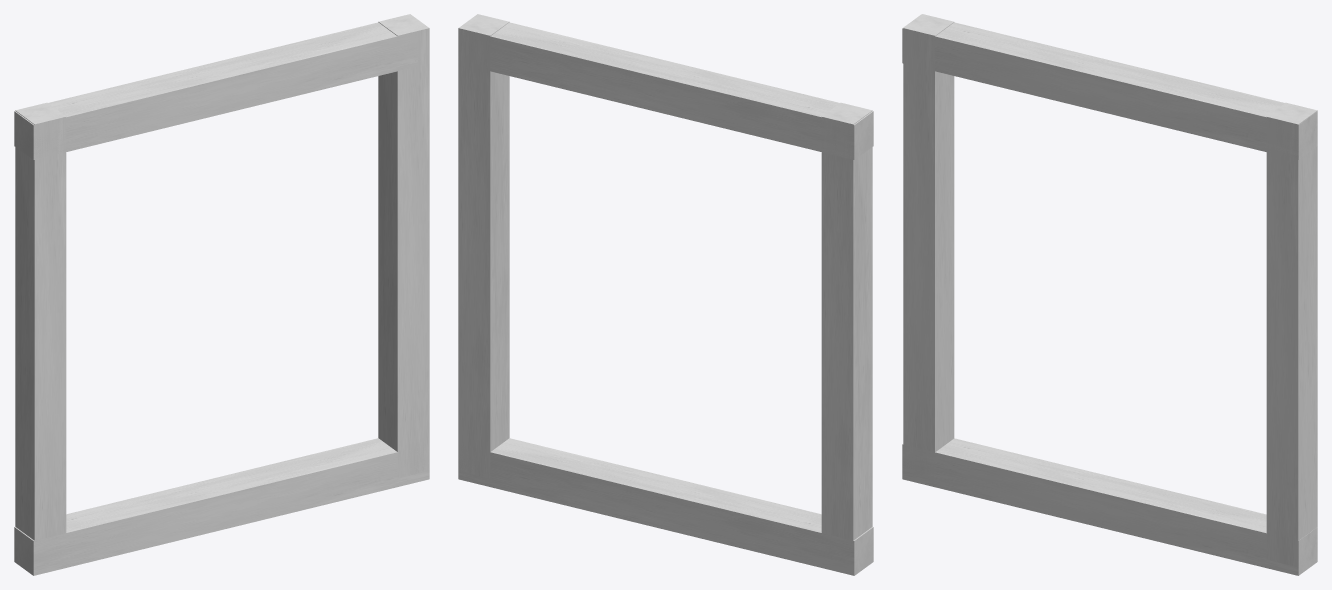
Rendered from VentanaEstructuraMovil.obj.
3 views of the same model, side by side, from view 1: azimuth 30°, elevation 25°; view 2: azimuth 150°, elevation 25°; view 3: azimuth 330°, elevation 25° (orthographic).
Parts seen in each view (by area): view 1: pCube108; view 2: pCube108; view 3: pCube108.
Part boxes in pixels (x1=…): pCube108: x1=14, y1=14, x2=429, y2=575; pCube108: x1=458, y1=14, x2=873, y2=575; pCube108: x1=902, y1=14, x2=1317, y2=575.
Size of the model in its own units: 6.74 by 7.34 by 0.5676.
